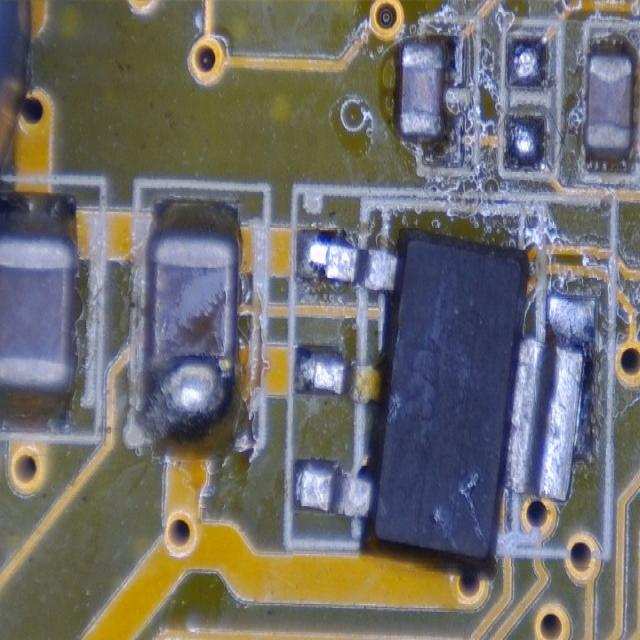Incorrect_installation: (294, 228, 597, 566)
